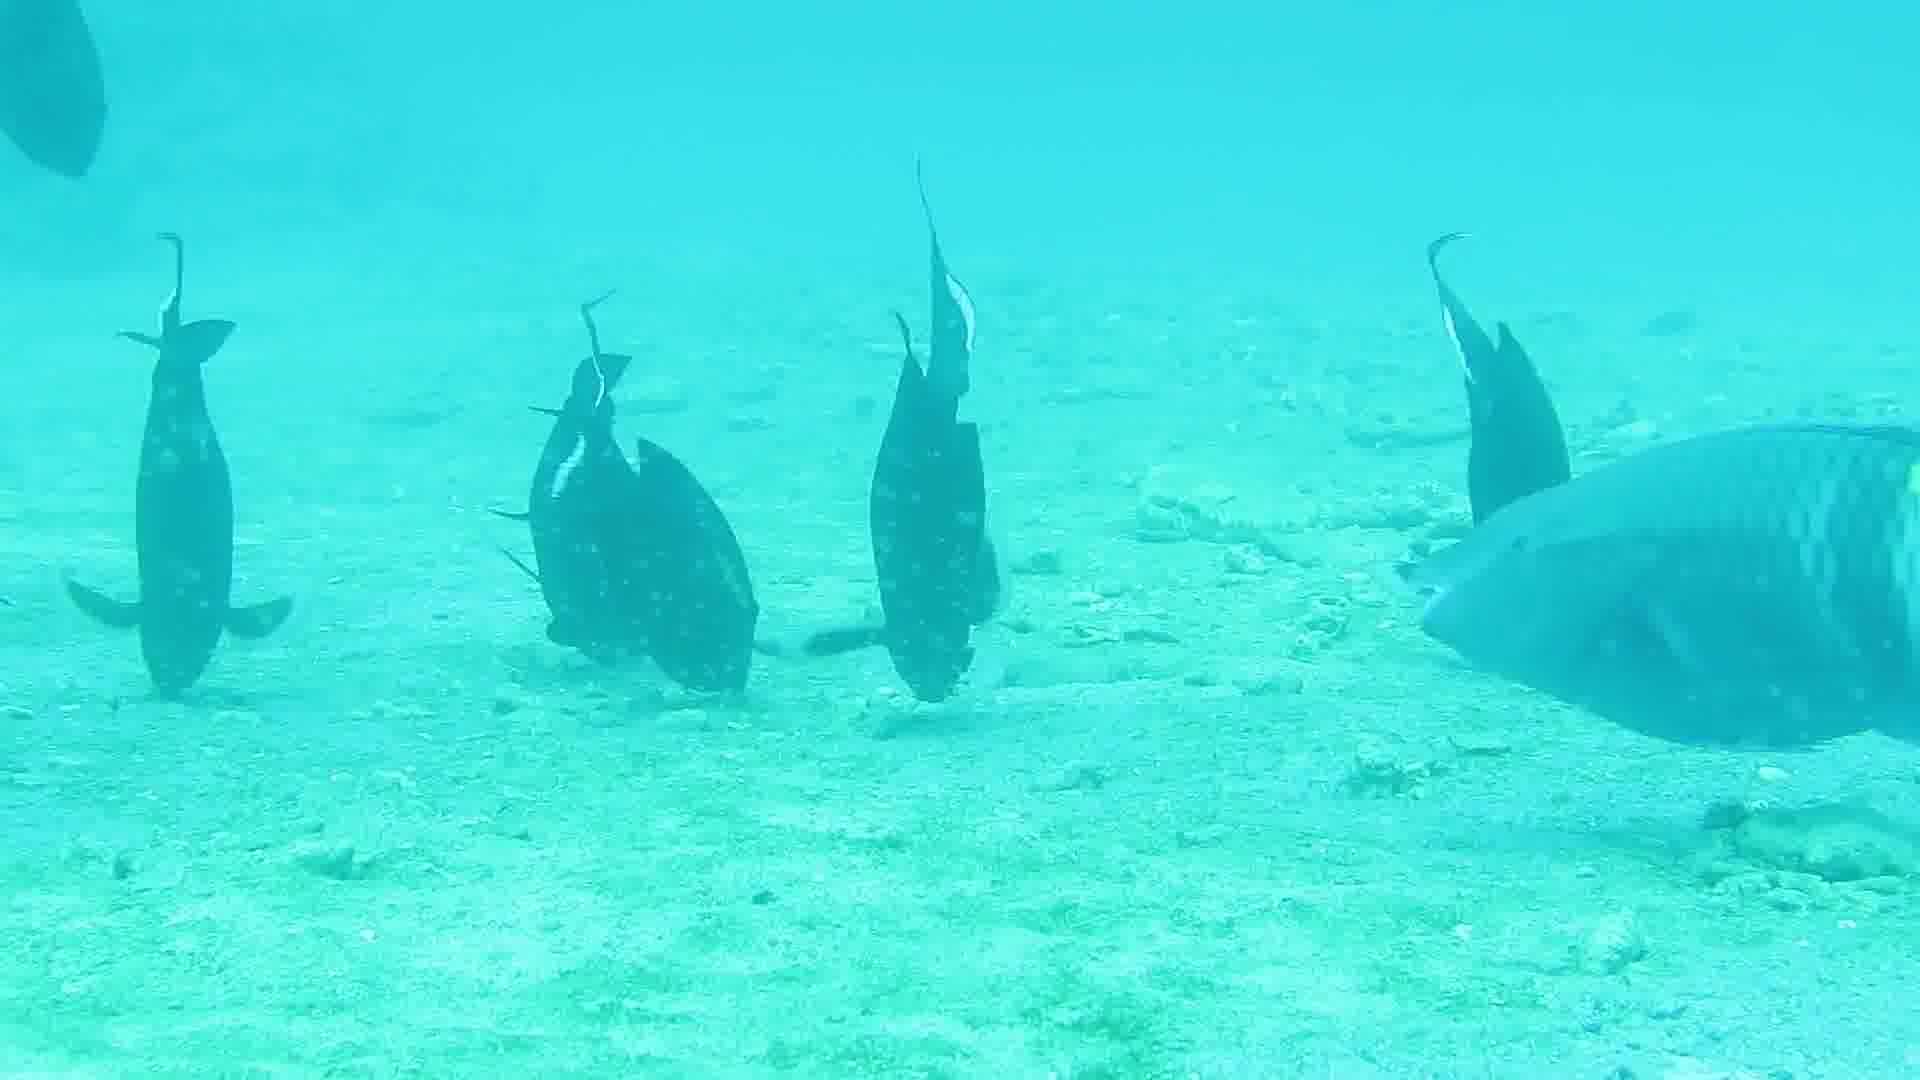Acanthurus olivaceus: (1407, 392, 1920, 767), (804, 262, 1058, 733), (502, 305, 756, 774), (1367, 237, 1621, 707), (94, 231, 345, 702)
